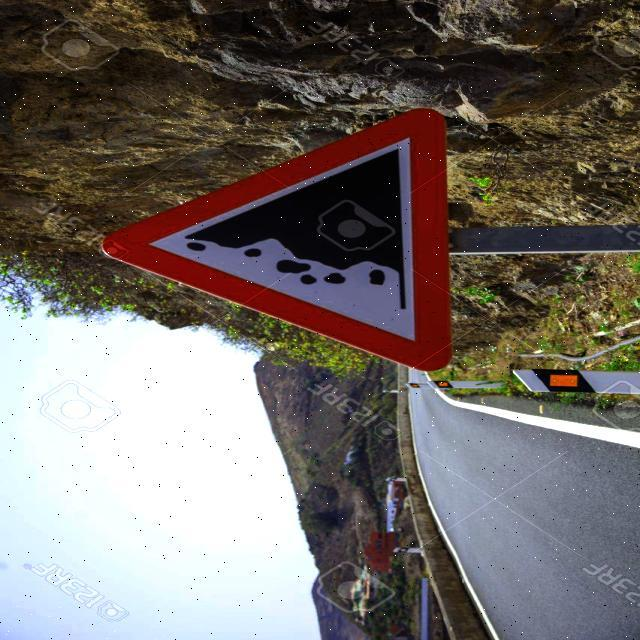Traffic sign: (98, 105, 456, 376)
